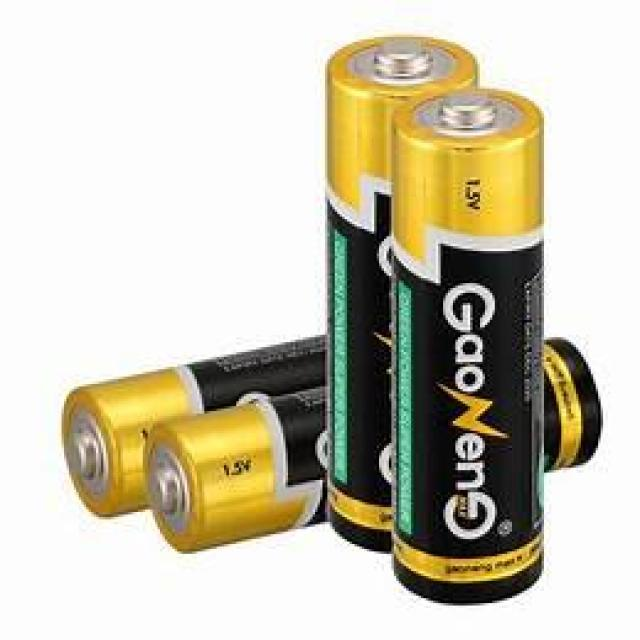battery: (322, 32, 550, 597), (59, 330, 599, 548)
